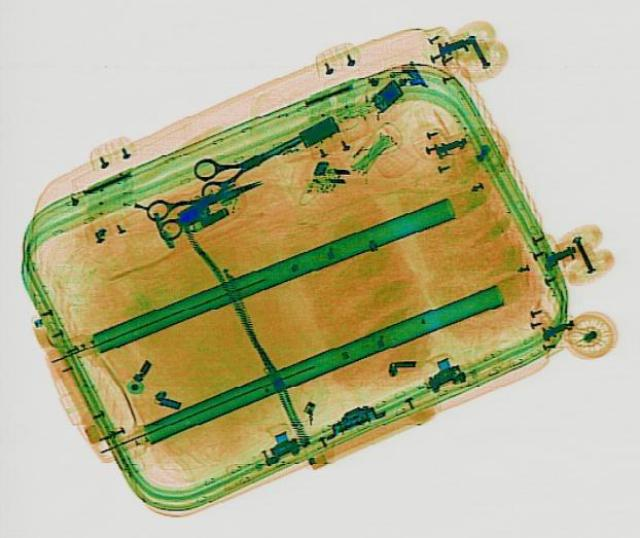Scissors: (178, 118, 312, 201), (137, 164, 271, 241)
